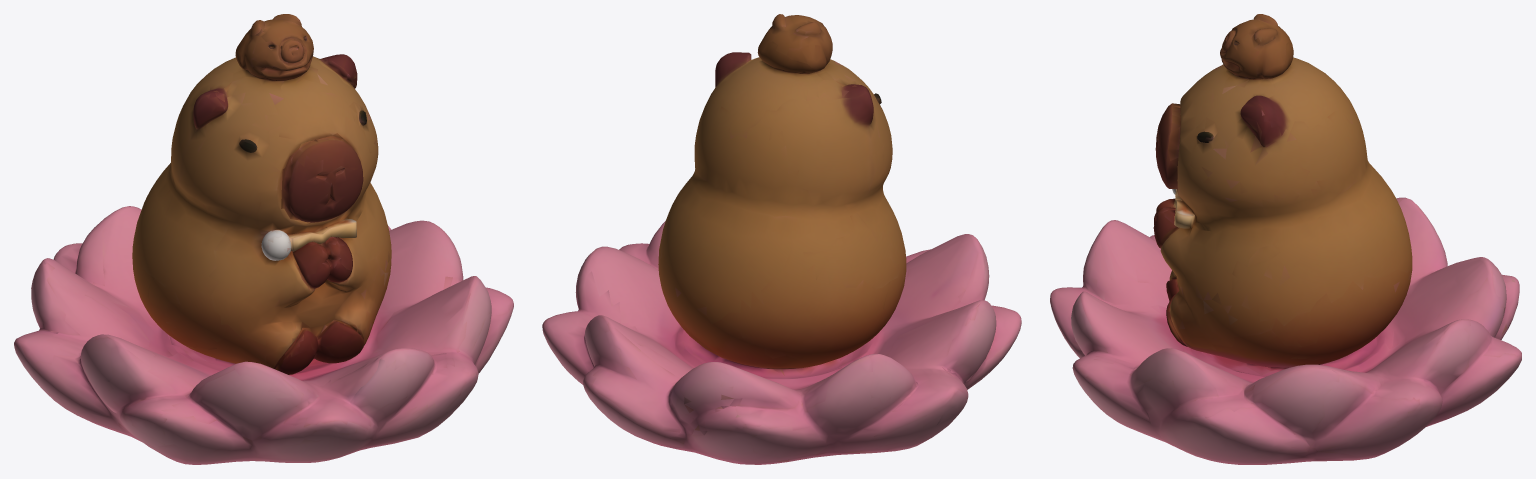
Rendered from 水豚治愈摆件-Small.fbx.
3 views of the same model, side by side, from view 1: azimuth 30°, elevation 25°; view 2: azimuth 150°, elevation 25°; view 3: azimuth 270°, elevation 25° (orthographic). The views are drawn at different scales.
Visible parts, largest first — view 1: texture_pbr_v128; view 2: texture_pbr_v128; view 3: texture_pbr_v128.
Part boxes in pixels (box(x1,y1,x2,y2)): texture_pbr_v128: box(14, 14, 513, 464); texture_pbr_v128: box(542, 14, 1021, 464); texture_pbr_v128: box(1050, 14, 1521, 464).
Bounding box in the file's own units: 99.95 × 84.66 × 99.86.
Materials: 1 (1 with a texture image).
